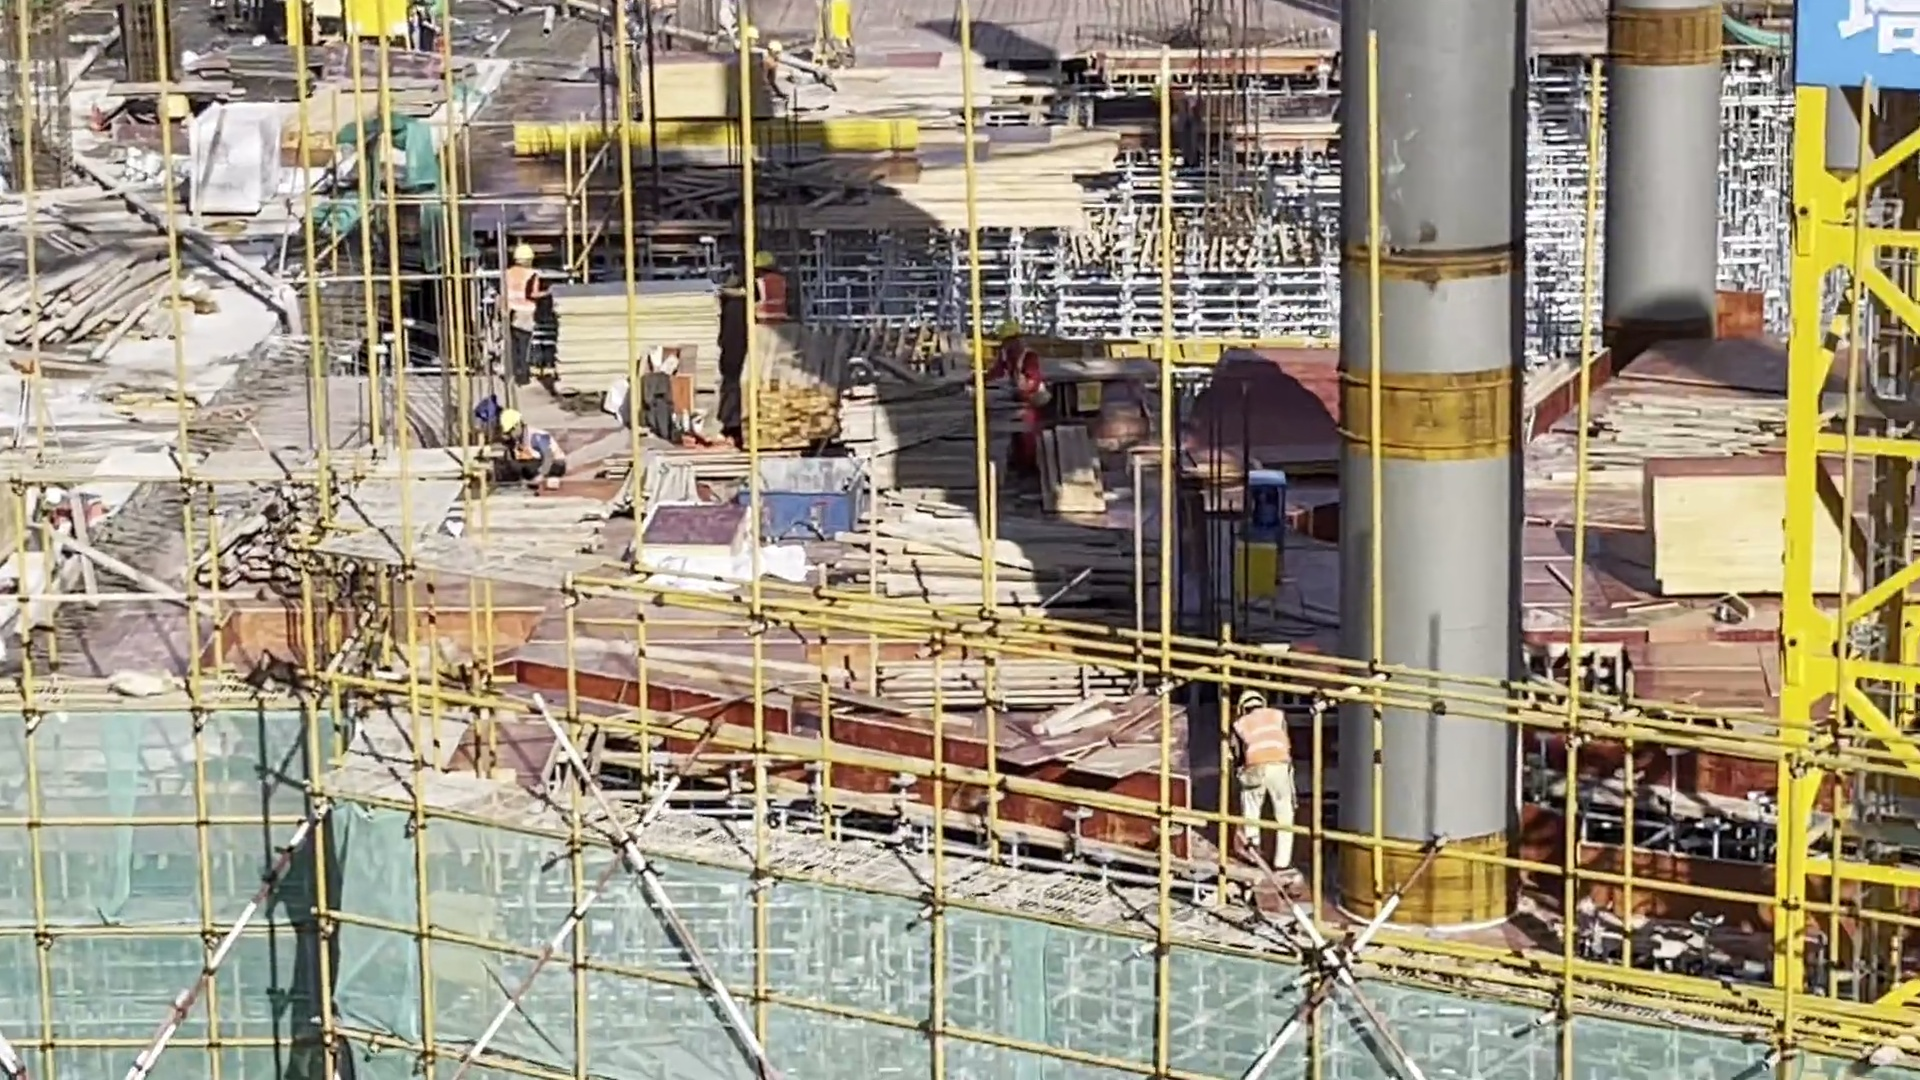board: (1649, 461, 1861, 617), (569, 281, 731, 389), (644, 41, 763, 122)
cutter: (1148, 394, 1318, 569), (94, 71, 243, 134)
ebox: (359, 1, 445, 49), (1241, 536, 1284, 624), (823, 1, 852, 39)
helmet: (501, 408, 522, 436), (1243, 687, 1265, 713), (755, 251, 776, 271), (40, 485, 63, 499), (1002, 323, 1027, 335), (519, 246, 535, 262), (1155, 86, 1162, 98)
hopper: (746, 447, 854, 541)
person: (1229, 689, 1309, 888), (984, 316, 1059, 458), (494, 248, 548, 370), (497, 407, 567, 481), (1150, 79, 1208, 164), (749, 248, 799, 330), (46, 483, 100, 526)
vest: (1236, 717, 1286, 785), (1005, 345, 1056, 398), (499, 266, 539, 321), (748, 275, 788, 320), (510, 430, 559, 465), (47, 498, 96, 522), (1174, 88, 1198, 126)
wood: (844, 392, 1151, 501), (1, 229, 181, 372), (856, 509, 1128, 582), (734, 341, 848, 446)
